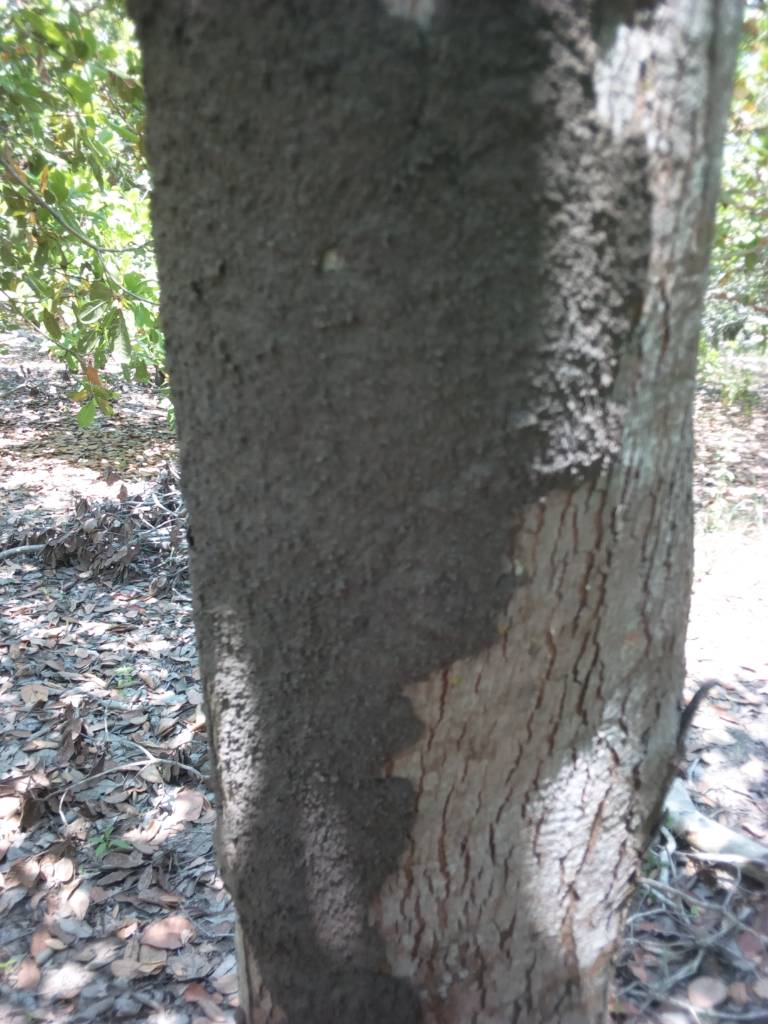Termites: (188, 8, 624, 1019)
